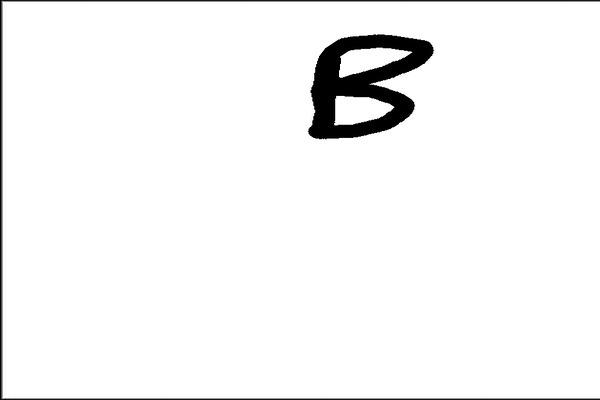B: (301, 26, 438, 149)
